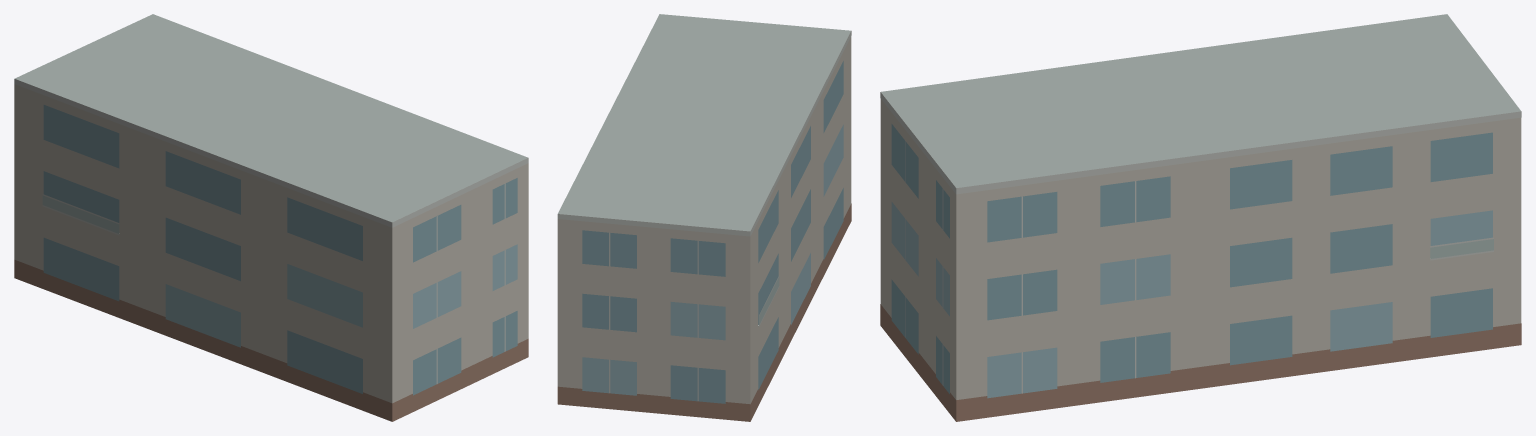
The model's file is survey-upis-32568646.glb.
3 renders of one model, left to right at view 1: azimuth 30°, elevation 25°; view 2: azimuth 150°, elevation 25°; view 3: azimuth 270°, elevation 25°, orthographic. The views are drawn at different scales.
Visible parts, largest first — view 1: survey-upis-32568646.tmp; view 2: survey-upis-32568646.tmp; view 3: survey-upis-32568646.tmp.
Boxes of the visible parts, x1=… form: survey-upis-32568646.tmp: x1=14, y1=14, x2=528, y2=421; survey-upis-32568646.tmp: x1=557, y1=14, x2=851, y2=421; survey-upis-32568646.tmp: x1=880, y1=14, x2=1521, y2=421.
Size of the model in its own units: 14.64 by 9.15 by 22.76.
